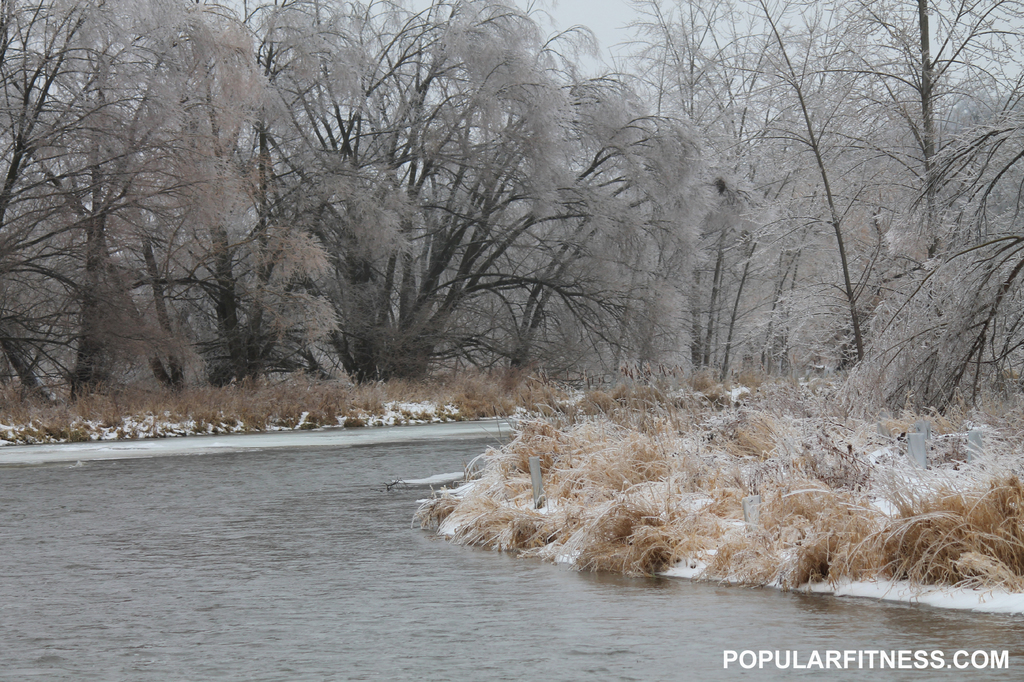Tree: (0, 0, 782, 380), (610, 0, 1023, 417)
